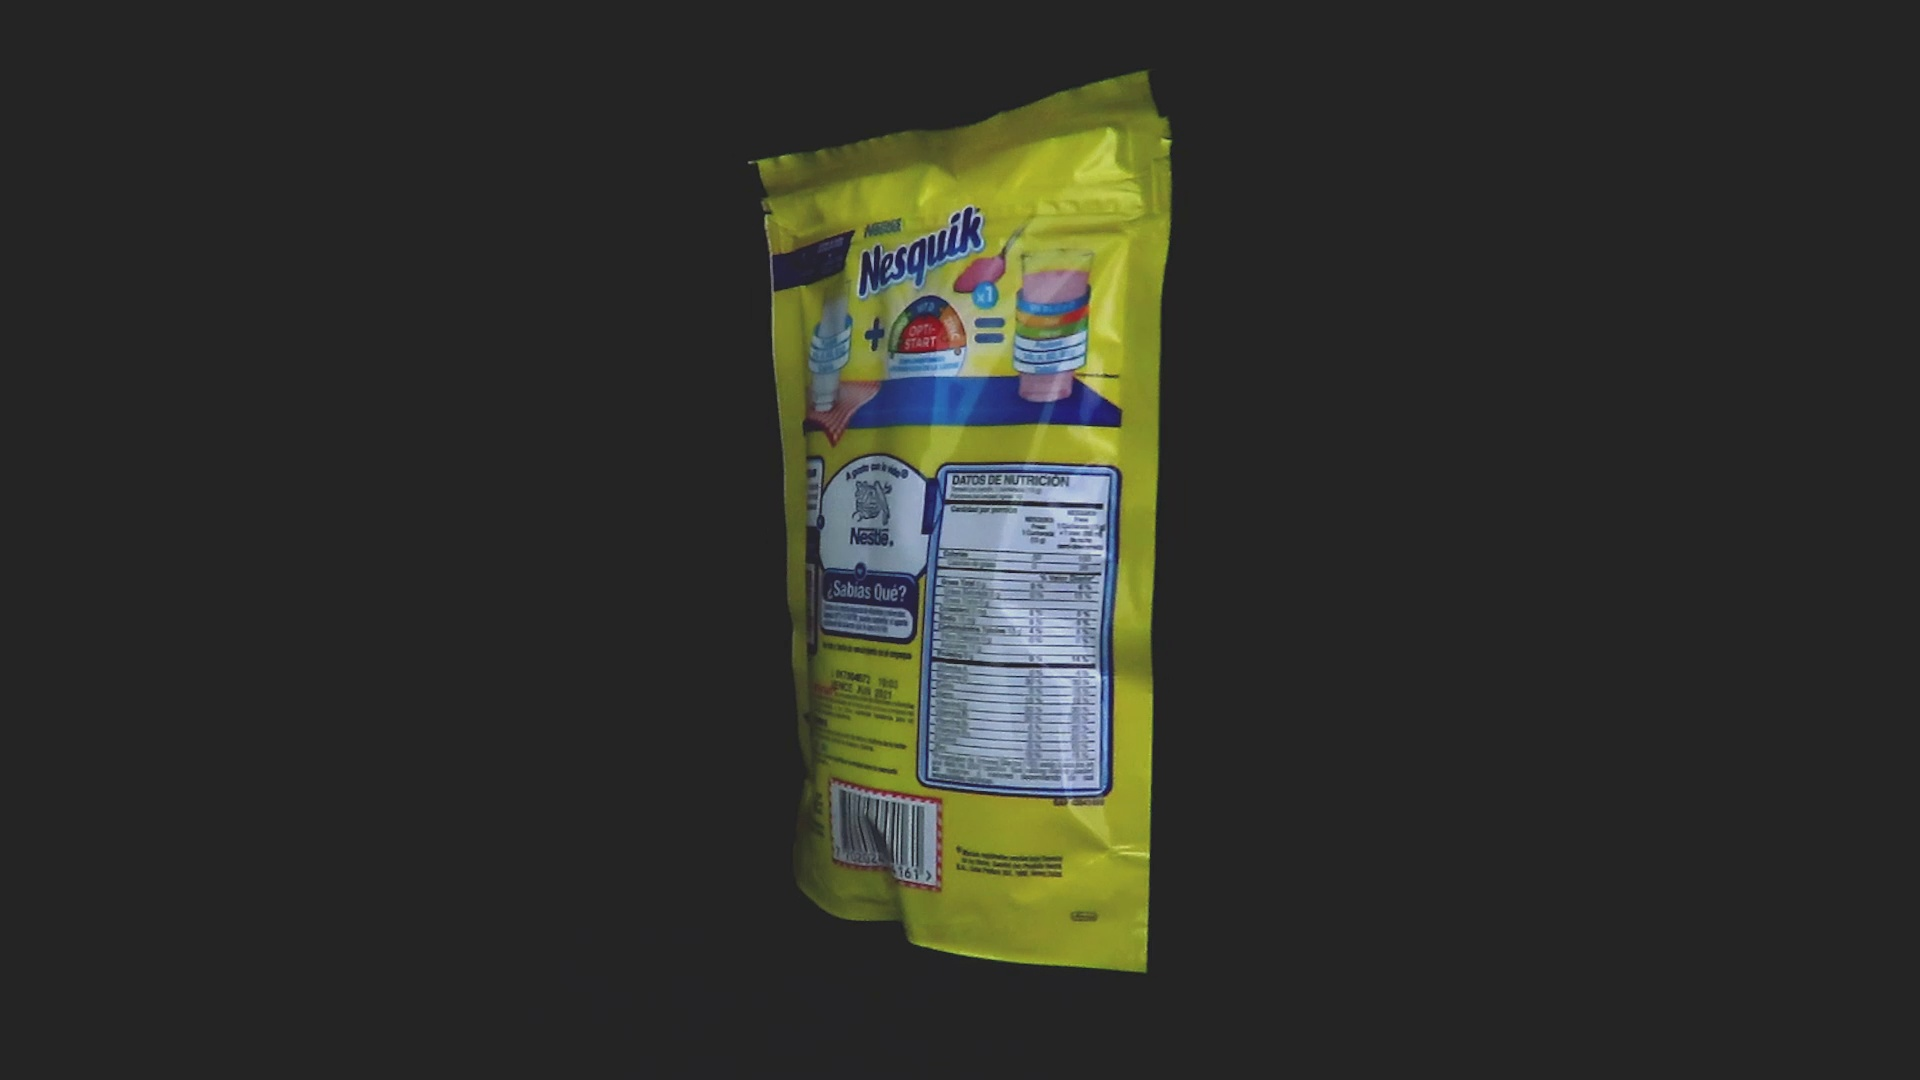COL0170305DYP20000: (742, 149, 1137, 893)
